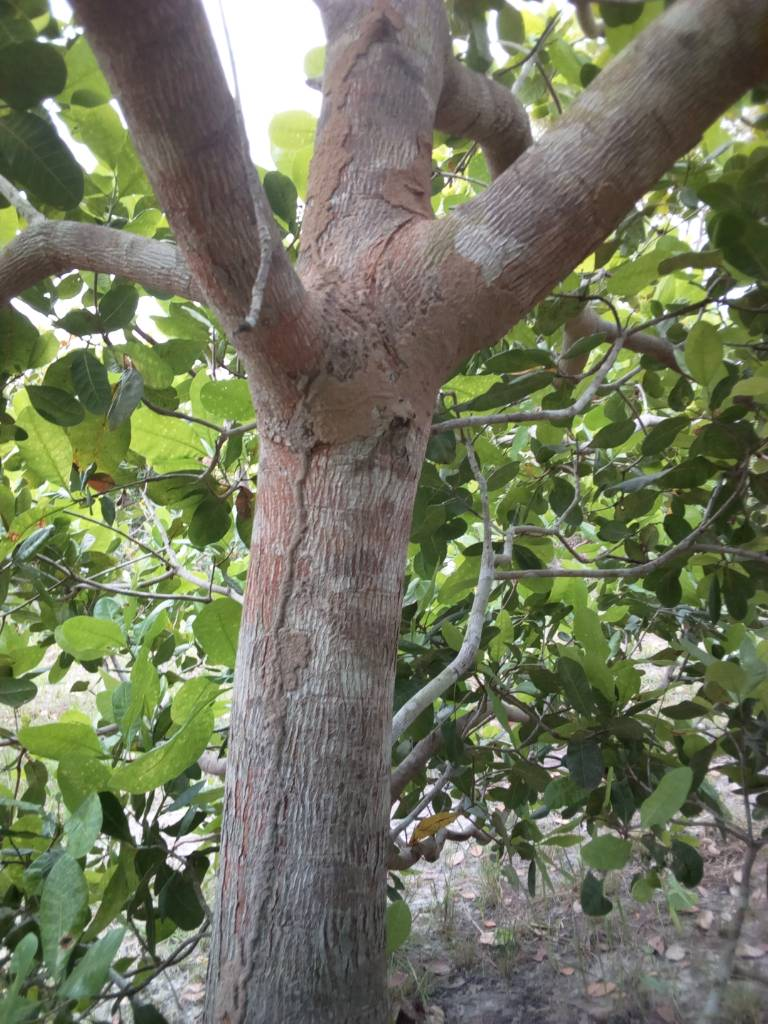Termites: (213, 472, 311, 1022), (299, 286, 483, 436), (299, 22, 385, 250)
